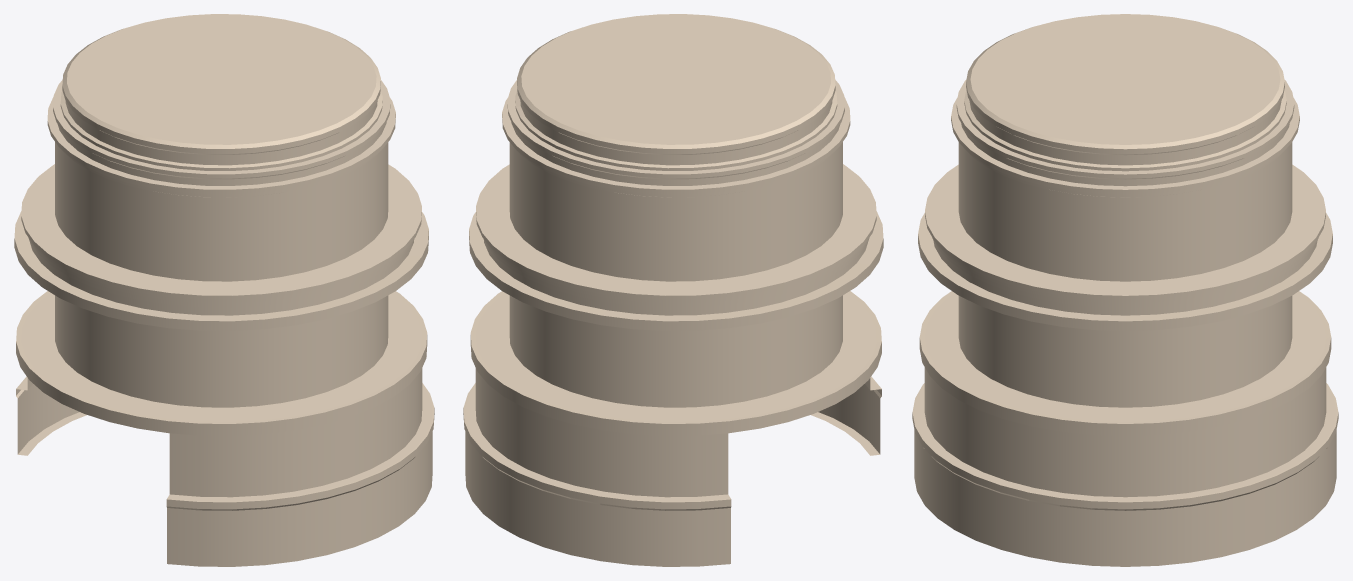
The model's file is BC_TopBuildingWall_A.fbx.
3 views of the same model, side by side, from view 1: azimuth 30°, elevation 25°; view 2: azimuth 150°, elevation 25°; view 3: azimuth 270°, elevation 25° (orthographic).
Parts seen in each view (by area): view 1: BC_TopBuildingWall_A; view 2: BC_TopBuildingWall_A; view 3: BC_TopBuildingWall_A.
Part boxes in pixels (left/top/right/bottom): BC_TopBuildingWall_A: left=14, top=14, right=434, bottom=566; BC_TopBuildingWall_A: left=463, top=14, right=883, bottom=566; BC_TopBuildingWall_A: left=912, top=14, right=1338, bottom=566.
Size of the model in its own units: 3349 by 3500 by 3394.
